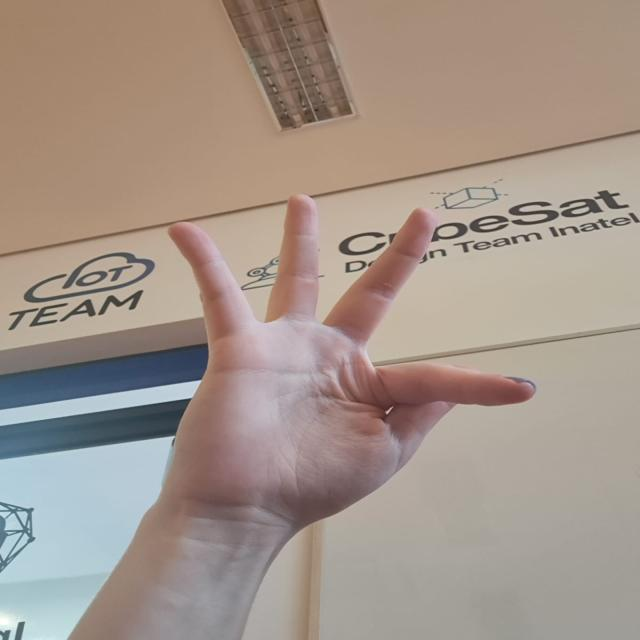F: (133, 182, 544, 532)
